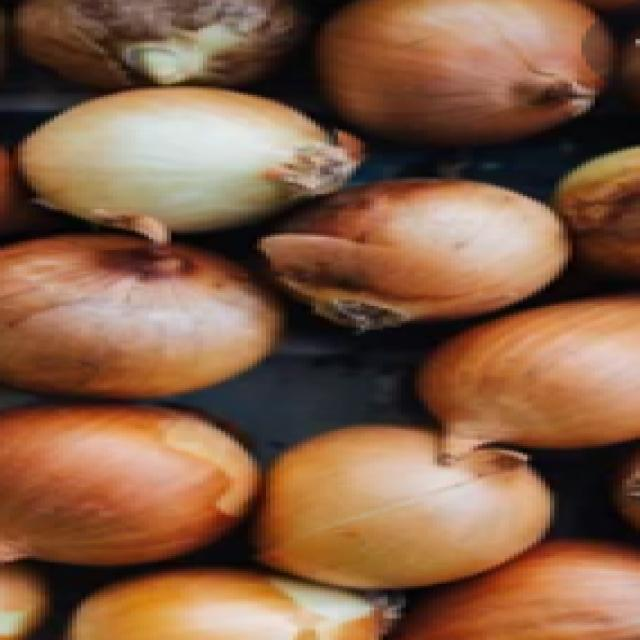rotten: (90, 15, 244, 80)
